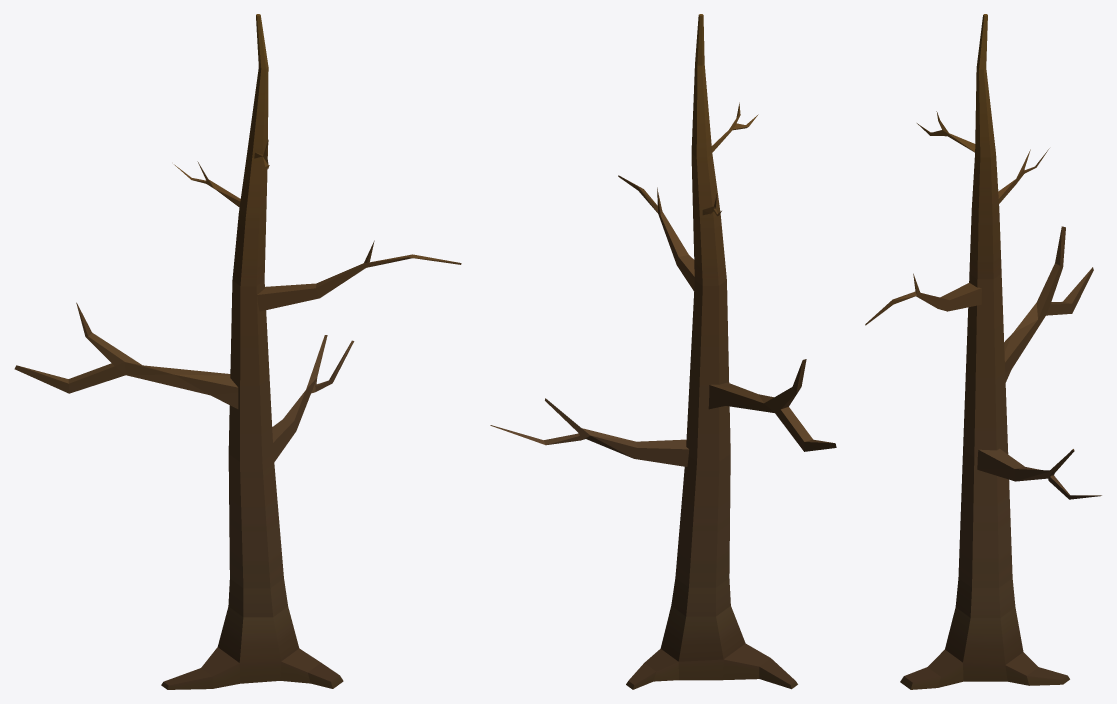
Rendered from Tree_1.obj.
3 renders of one model, left to right at view 1: azimuth 30°, elevation 25°; view 2: azimuth 150°, elevation 25°; view 3: azimuth 270°, elevation 25°, orthographic.
Parts seen in each view (by area): view 1: Tree_03.004_Cylinder.091; view 2: Tree_03.004_Cylinder.091; view 3: Tree_03.004_Cylinder.091.
Part boxes in pixels (x1,y1,x2,y2): Tree_03.004_Cylinder.091: (14,14,461,689); Tree_03.004_Cylinder.091: (490,14,836,689); Tree_03.004_Cylinder.091: (865,14,1101,689).
Size of the model in its own units: 3.81 by 6.91 by 2.28.
Materials: 1 (1 with a texture image).
